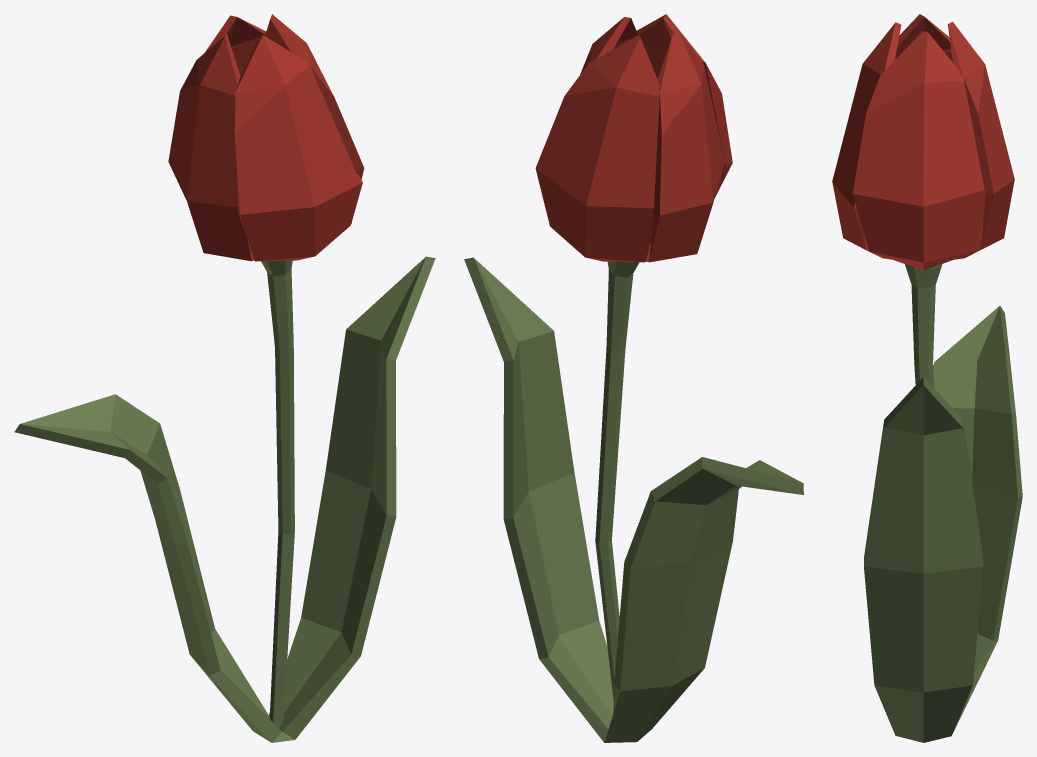
File: SM_Envr_Nature_Plant_Flower_06.fbx
3 views of the same model, side by side, from view 1: azimuth 30°, elevation 25°; view 2: azimuth 150°, elevation 25°; view 3: azimuth 270°, elevation 25° (orthographic). The views are drawn at different scales.
Parts seen in each view (by area): view 1: SM_Envr_Nature_Plant_Flower_06; view 2: SM_Envr_Nature_Plant_Flower_06; view 3: SM_Envr_Nature_Plant_Flower_06.
Part boxes in pixels (x1,y1,x2,y2): SM_Envr_Nature_Plant_Flower_06: (14, 14, 435, 742); SM_Envr_Nature_Plant_Flower_06: (464, 14, 803, 742); SM_Envr_Nature_Plant_Flower_06: (832, 14, 1022, 742).
Bounding box in the file's own units: 36.53 × 65.76 × 16.21.
